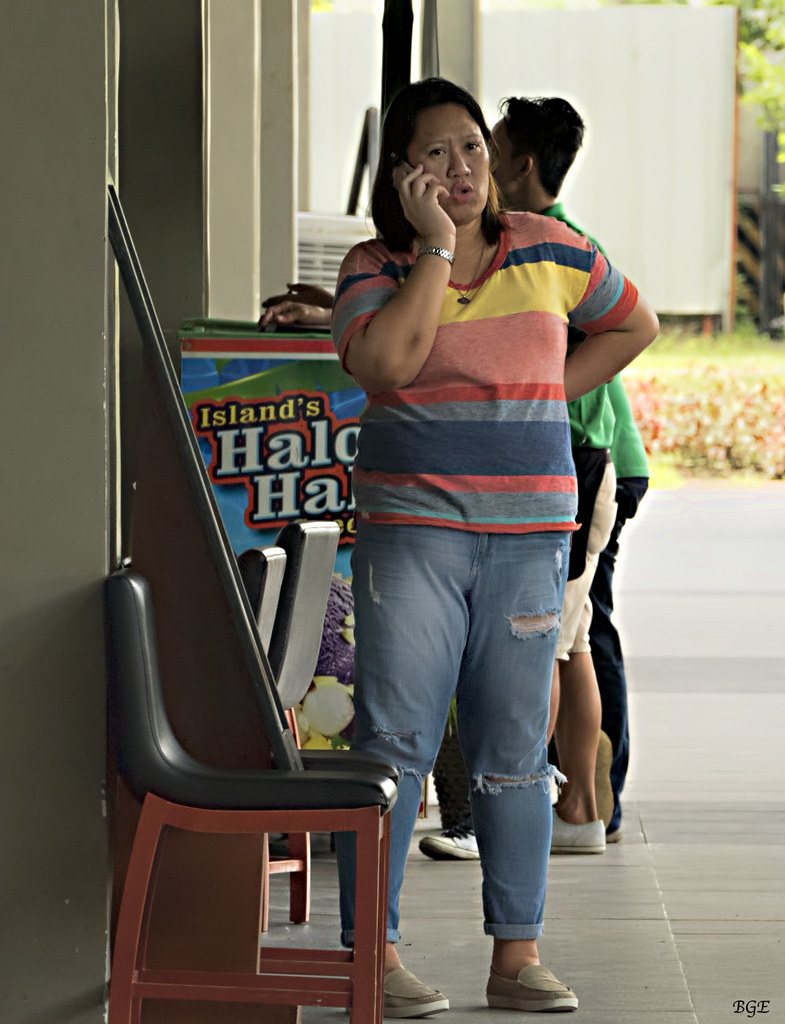phone: (377, 145, 441, 229)
talk: (369, 118, 500, 250)
